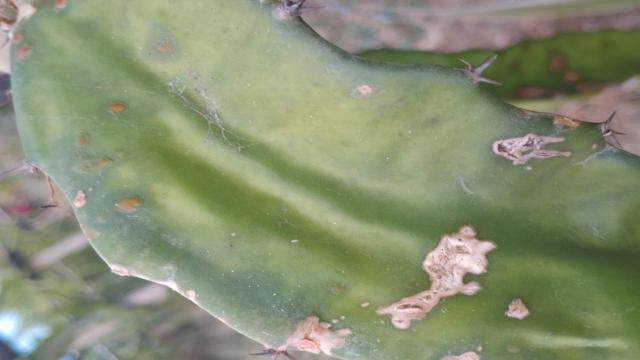stemcanker: (352, 198, 570, 360), (143, 31, 184, 64), (99, 95, 137, 122), (113, 189, 147, 216), (67, 126, 98, 150)
